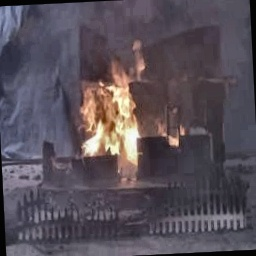fire: (70, 35, 152, 166)
